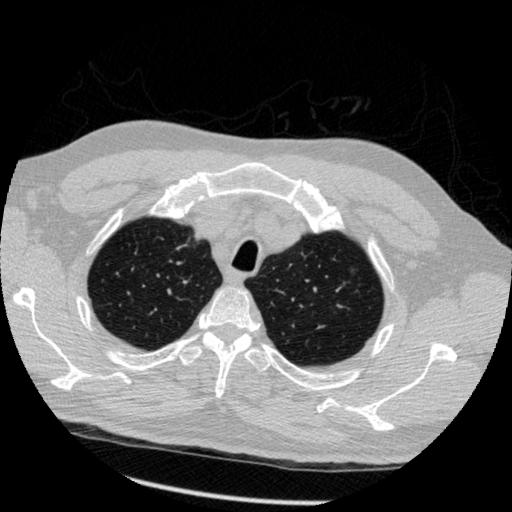nodule: (350, 266, 362, 278)
